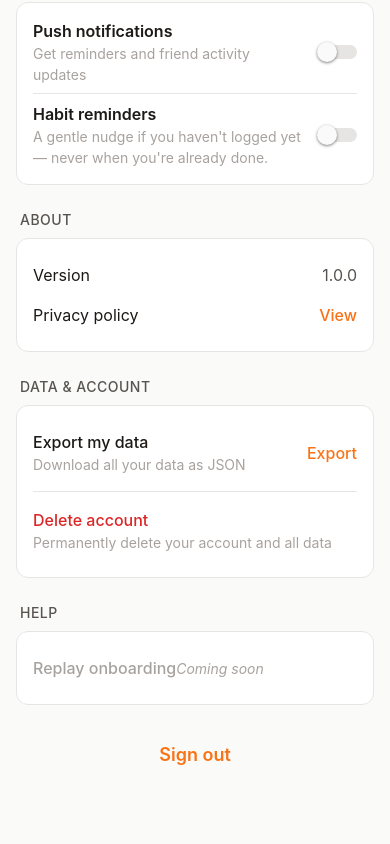
it: SettingsScreen — Data Export › shows error when export fails
The image size is (390, 844).
(page scrolled)
What coordinates should you click on to do the following:
click the button with test id "settings-export-data"
I would click on:
 (91, 442)
Its box is [33,422,357,483].
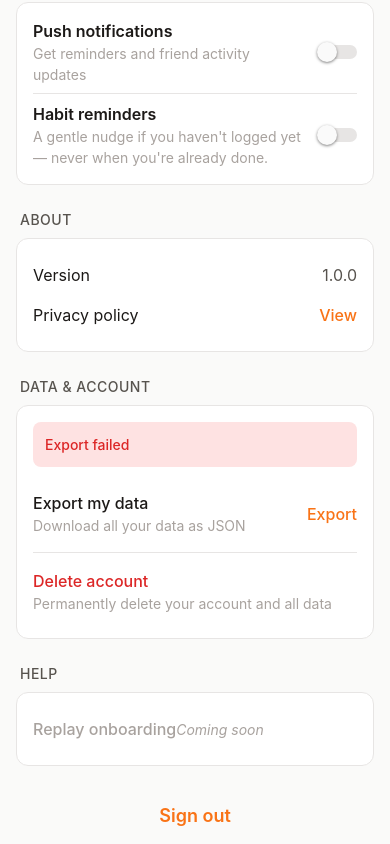
Result: the message "Export failed" is shown at [33,422,357,467]
Result: the text "Export failed" is shown at [45,436,130,453]
